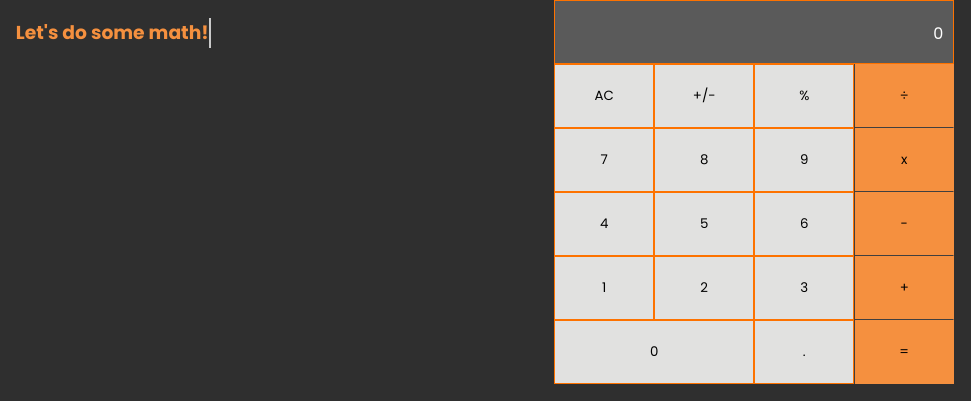
Test: Ther user type 2 + 2
Click the button "2". click: (704, 288)
box: [654,256,754,320]
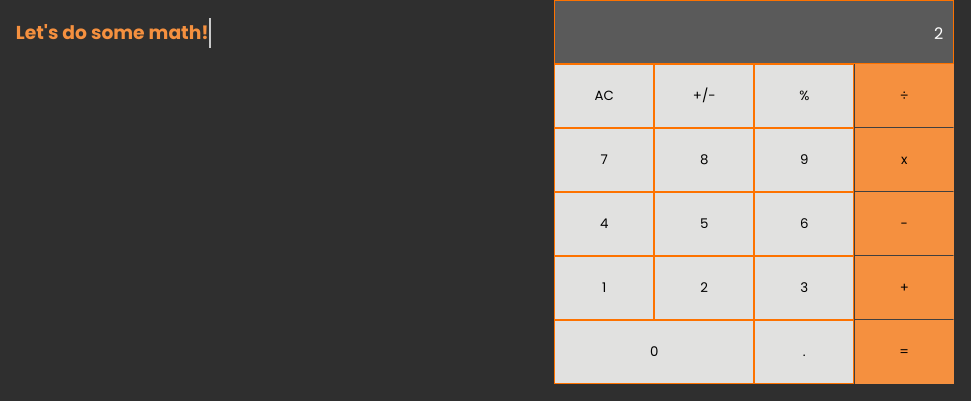
Now the text with class "calc-section" reads "2", box [934,22,943,45]
Click the button "+". click: (904, 288)
box: [854,256,954,320]
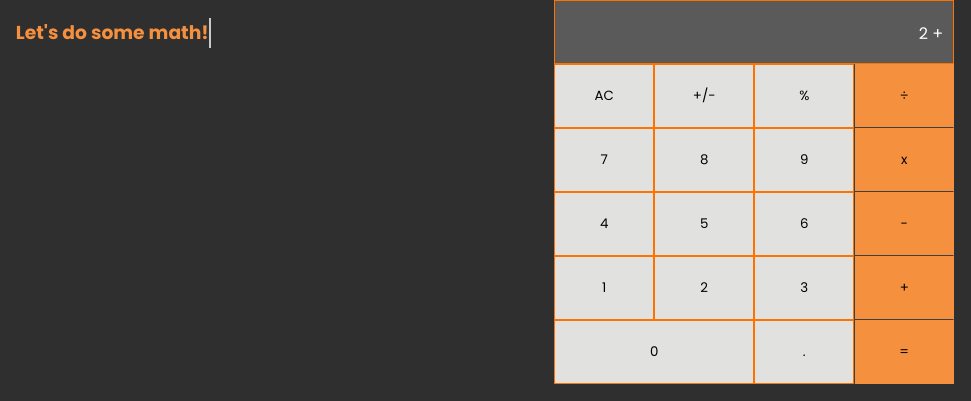
Now the text with class "calc-section" reads "2 +", box [554,0,954,64]
Click the button "2". click: (704, 288)
box: [654,256,754,320]
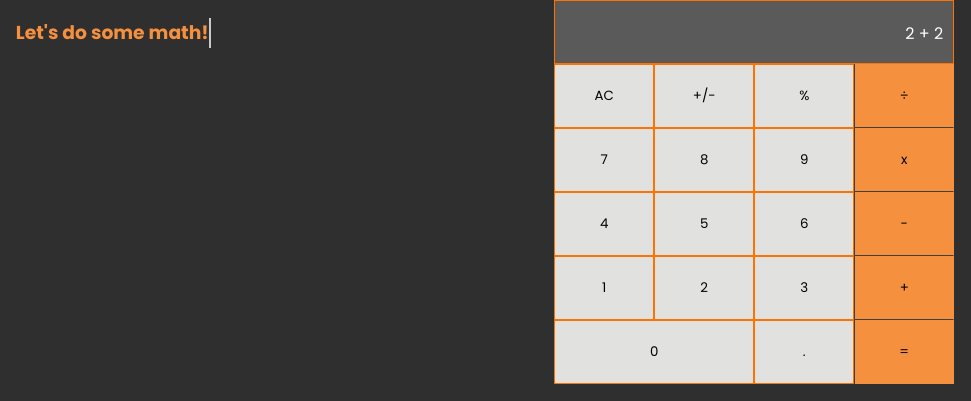
Now the text with class "calc-section" reads "2 + 2", box [554,0,954,64]
Click the button "=". click: (904, 352)
box: [854,320,954,384]
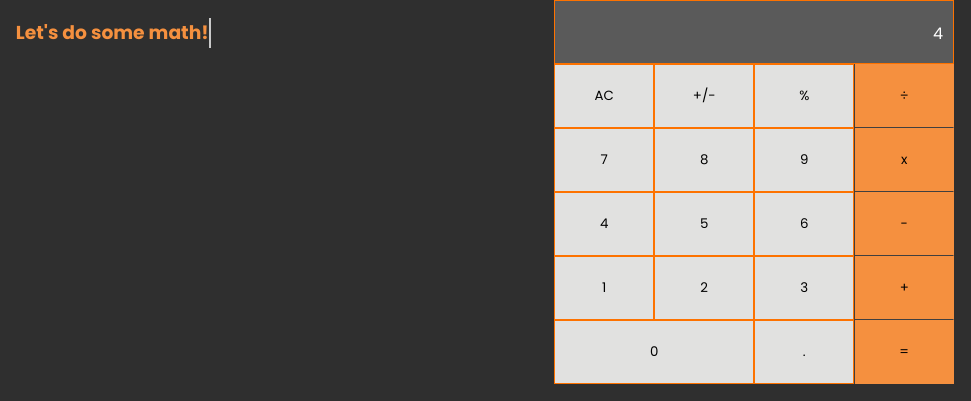
Now the text with class "calc-section" reads "4", box [933,22,943,45]
